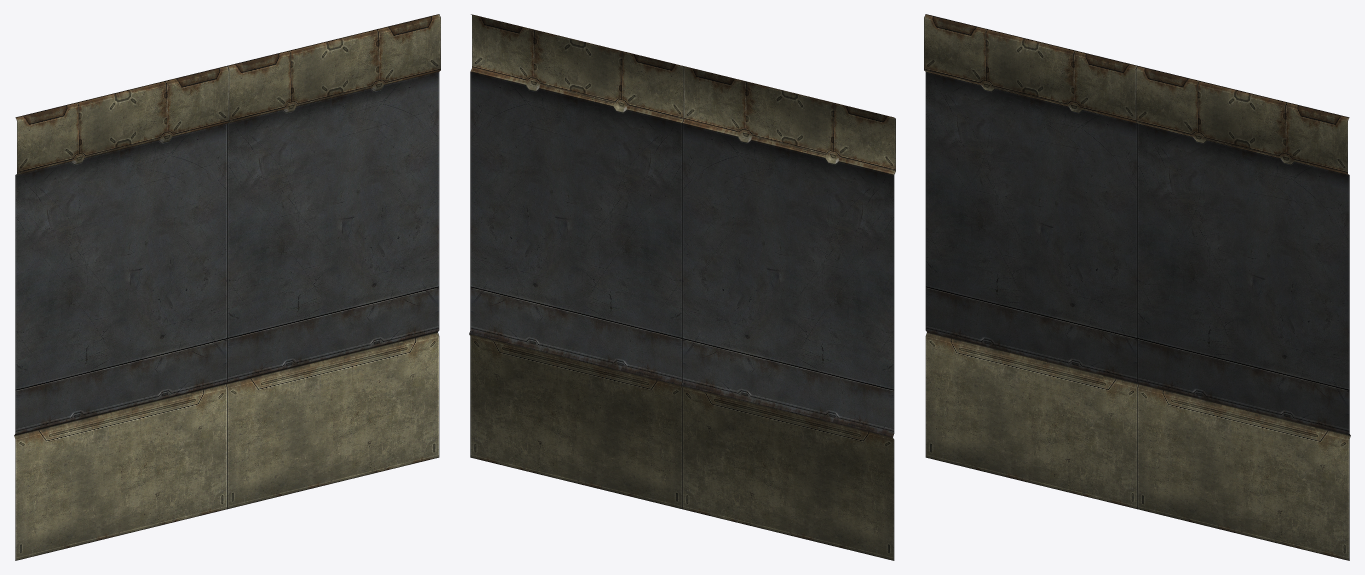
Rendered from datasite_flat01.dae.
3 views of the same model, side by side, from view 1: azimuth 30°, elevation 25°; view 2: azimuth 150°, elevation 25°; view 3: azimuth 330°, elevation 25° (orthographic).
Visible parts, largest first — view 1: polySurface27; view 2: polySurface27; view 3: polySurface27.
Part boxes in pixels (x1,y1,x2,y2): polySurface27: (14,14,440,560); polySurface27: (469,14,895,560); polySurface27: (924,14,1350,560).
Bounding box in the file's own units: 4 × 4 × 0.0483.
Materials: 1 (1 with a texture image).
